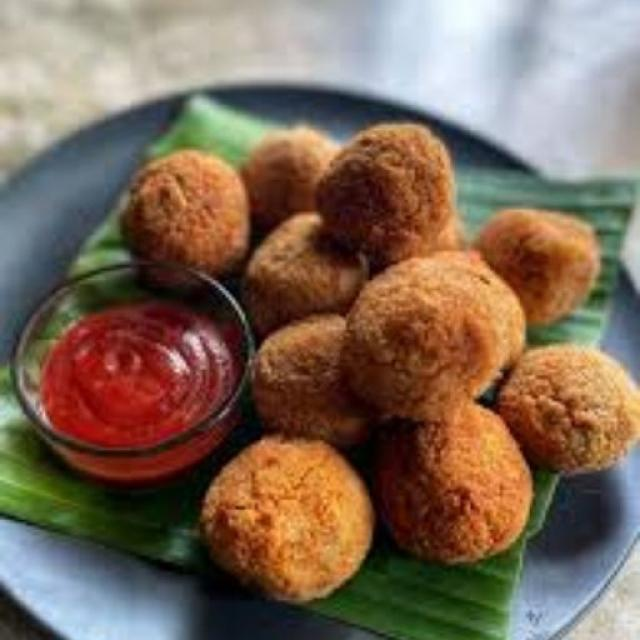Cutlet: (342, 265, 522, 425), (199, 436, 371, 602), (301, 114, 463, 256), (85, 150, 260, 272), (504, 343, 640, 465), (478, 201, 605, 314)
